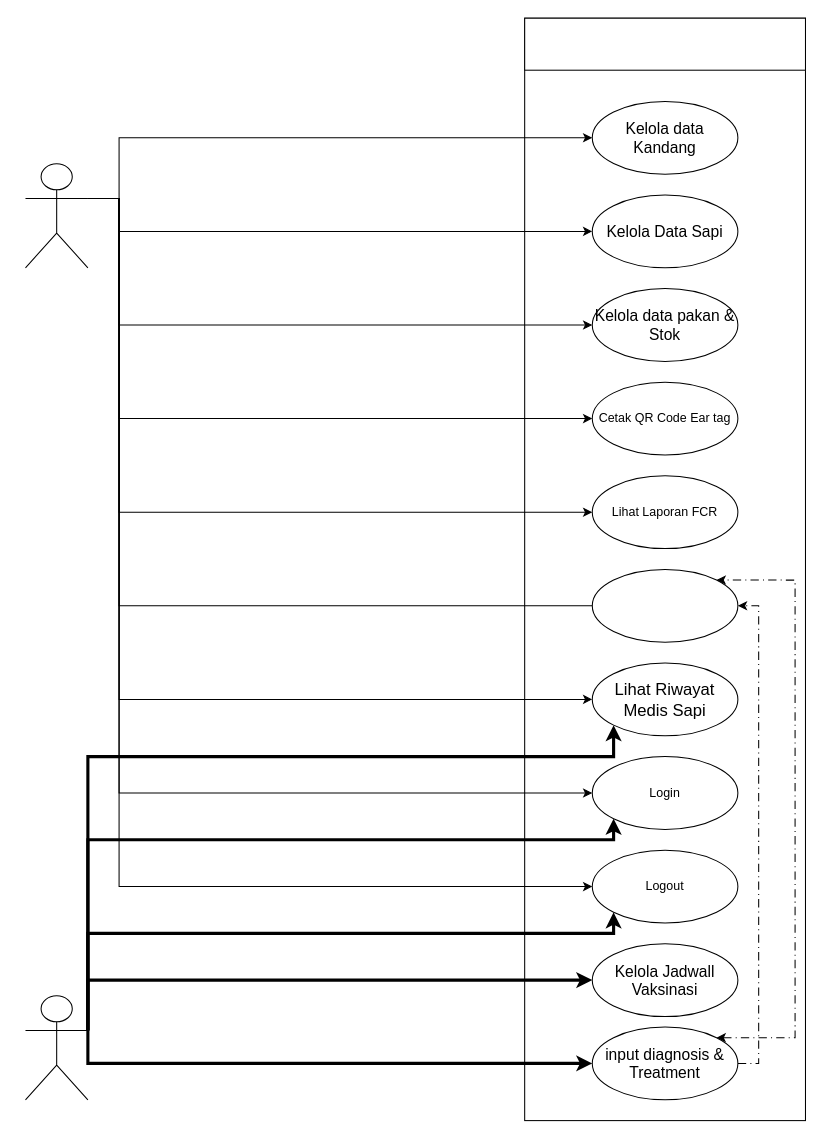
The diagram is 824 pixels wide and 1140 high, and some of its shapes have lost their labels. The centre of each missing label's shape, as x and y in pixels:
"Aplikasi Desktop" belongs at point 664,43.
"Dokter hewan" belongs at point 56,1047.
"Lihat Ringkasan dashboard & reminder" belongs at point 664,605.
"Manager" belongs at point 56,215.
